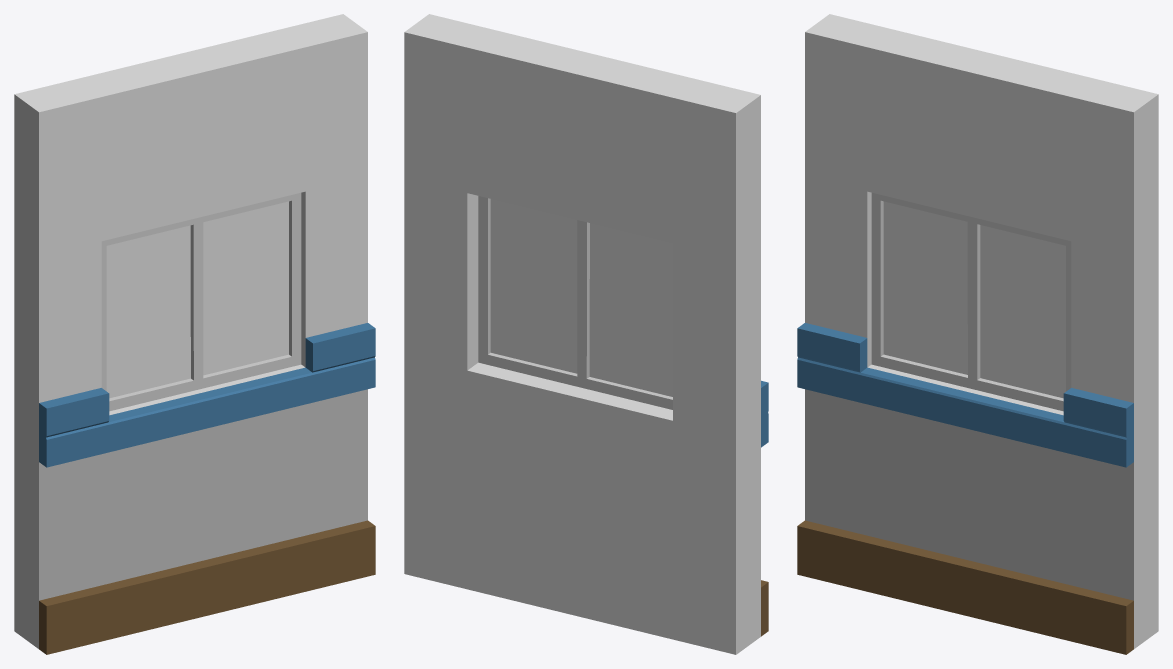
Rendered from H_Wall_Window_Office.fbx.
3 renders of one model, left to right at view 1: azimuth 30°, elevation 25°; view 2: azimuth 150°, elevation 25°; view 3: azimuth 330°, elevation 25°, orthographic.
Parts seen in each view (by area): view 1: H_Wall_Window_Office; view 2: H_Wall_Window_Office; view 3: H_Wall_Window_Office.
Part boxes in pixels (x1,y1,x2,y2): H_Wall_Window_Office: (14,14,375,654); H_Wall_Window_Office: (404,14,768,654); H_Wall_Window_Office: (797,14,1158,654).
Size of the model in its own units: 1000 by 170 by 1560.
